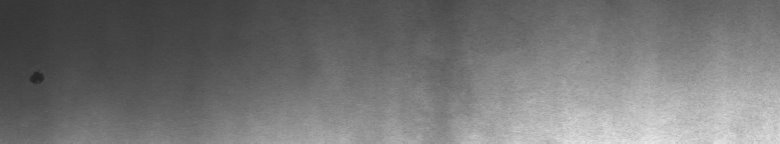fi: (28, 65, 48, 88)
